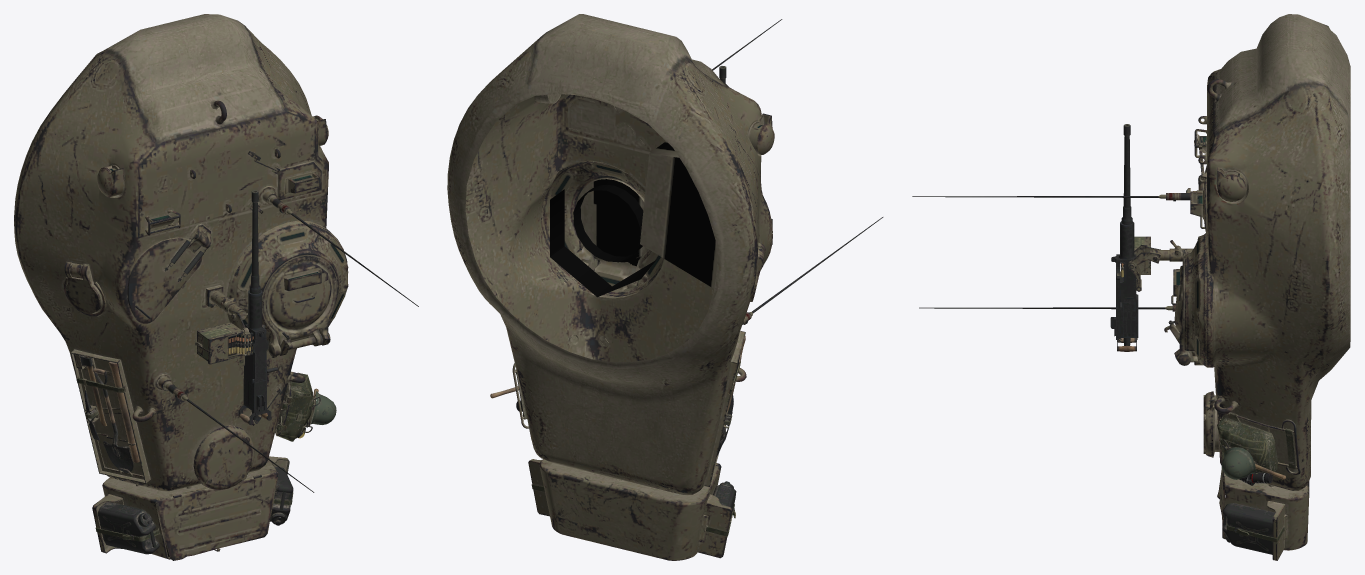
File: Turret_01.glb
3 renders of one model, left to right at view 1: azimuth 30°, elevation 25°; view 2: azimuth 150°, elevation 25°; view 3: azimuth 270°, elevation 25°, orthographic. The views are drawn at different scales.
Visible parts, largest first — view 1: set_0_group_0; view 2: set_0_group_0; view 3: set_0_group_0.
Boxes of the visible parts, x1,y1,x2,y2 form: set_0_group_0: (14, 14, 418, 560); set_0_group_0: (447, 14, 883, 560); set_0_group_0: (912, 14, 1350, 560).
Size of the model in its own units: 2.25 by 3.61 by 2.95.
1 material, 1 textured.
